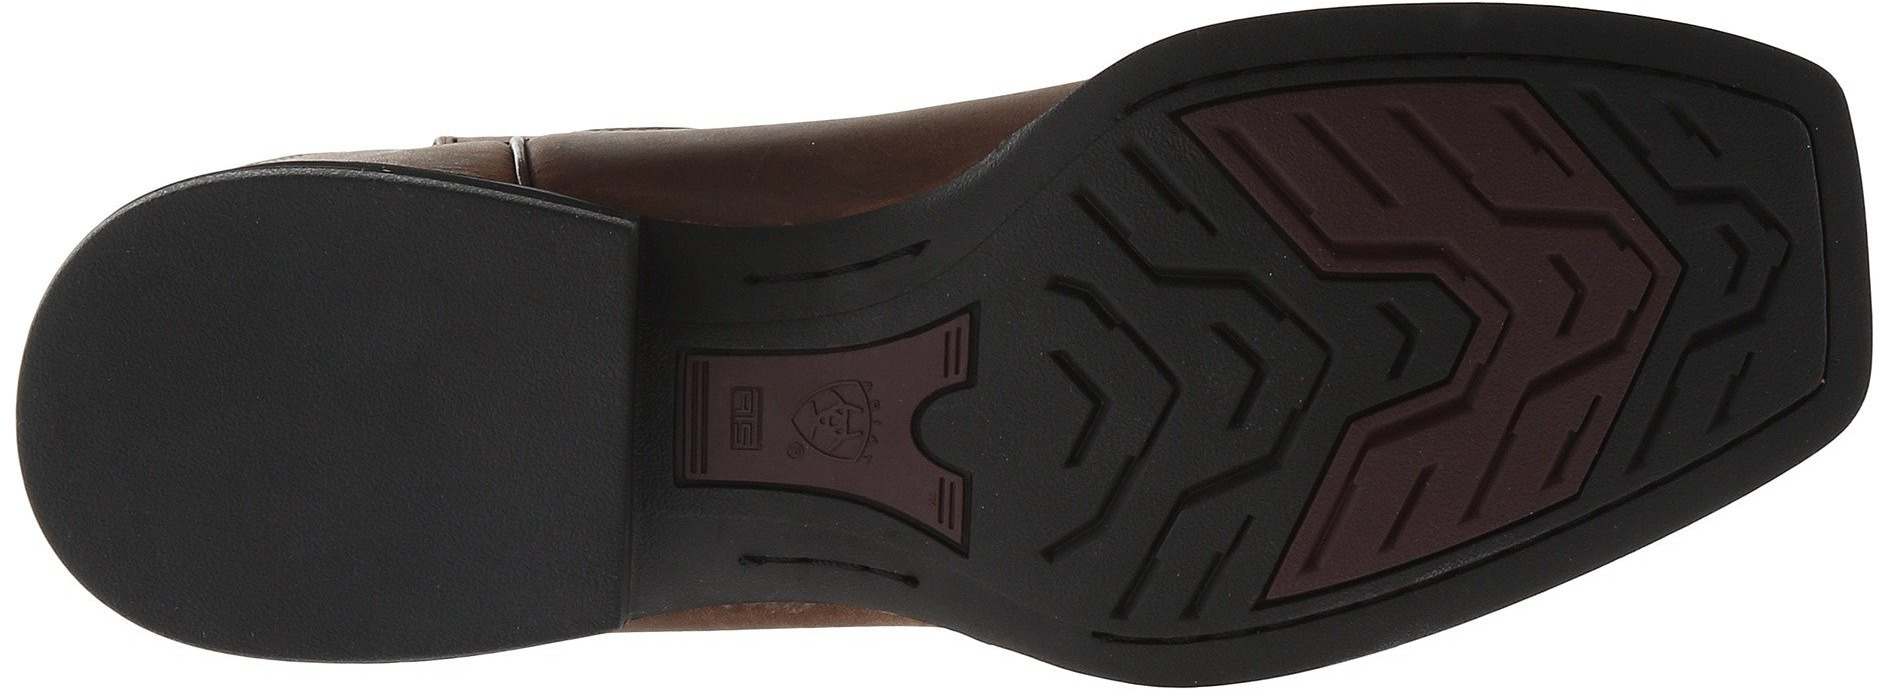chevron: (1402, 214, 1583, 394), (1052, 317, 1222, 482), (1228, 263, 1378, 422), (1700, 193, 1825, 314)
other: (78, 275, 463, 610)
